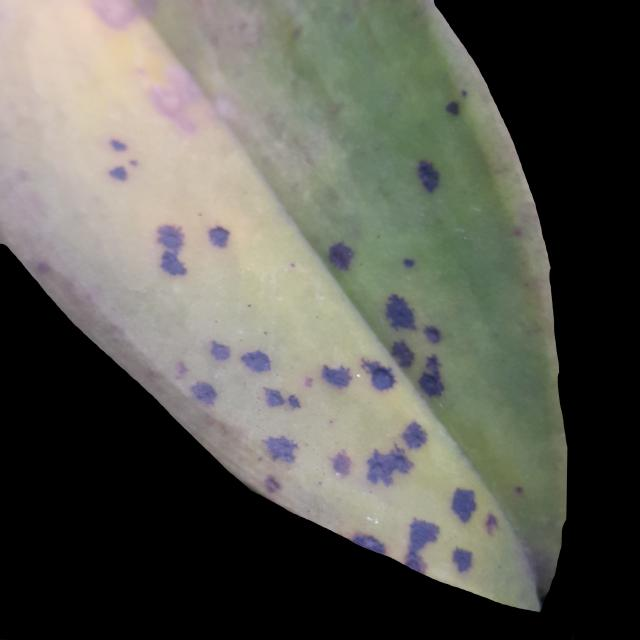mite: (99, 77, 485, 416), (324, 82, 478, 399), (90, 123, 156, 198), (104, 134, 141, 184), (440, 85, 471, 120), (389, 337, 416, 369), (105, 133, 131, 155), (397, 251, 420, 273), (108, 164, 128, 182), (444, 99, 460, 116), (109, 137, 127, 152), (401, 256, 416, 269), (512, 484, 524, 496), (128, 156, 140, 167), (459, 87, 469, 98)
sunburn: (152, 220, 190, 279)
